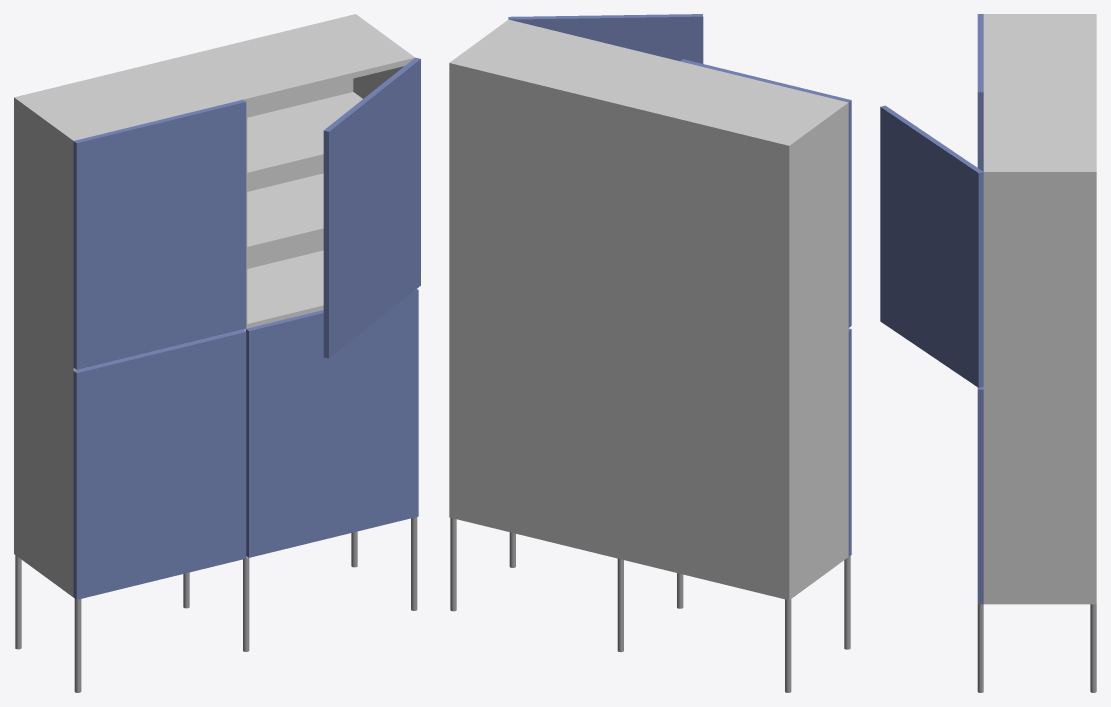
The model's file is SEKTION_KALVIA_Storage.obj.
The picture shows the model from 3 angles, left to right: view 1: azimuth 30°, elevation 25°; view 2: azimuth 150°, elevation 25°; view 3: azimuth 270°, elevation 25°; orthographic projection. The views are drawn at different scales.
Visible parts, largest first — view 1: Revit_048033_59, Revit_008539_69, Revit_037041_63; view 2: Revit_008539_69, Revit_048033_59, Revit_037041_63; view 3: Revit_008539_69, Revit_048033_59, Revit_037041_63.
Part boxes in pixels (x1=…): Revit_048033_59: x1=73, y1=57, x2=420, y2=599; Revit_008539_69: x1=14, y1=14, x2=414, y2=597; Revit_037041_63: x1=15, y1=517, x2=417, y2=692; Revit_008539_69: x1=449, y1=19, x2=848, y2=600; Revit_048033_59: x1=508, y1=14, x2=851, y2=556; Revit_037041_63: x1=450, y1=518, x2=850, y2=692; Revit_008539_69: x1=983, y1=14, x2=1096, y2=604; Revit_048033_59: x1=880, y1=14, x2=983, y2=604; Revit_037041_63: x1=977, y1=604, x2=1096, y2=692.
Size of the model in its own units: 1239 by 1890 by 710.
